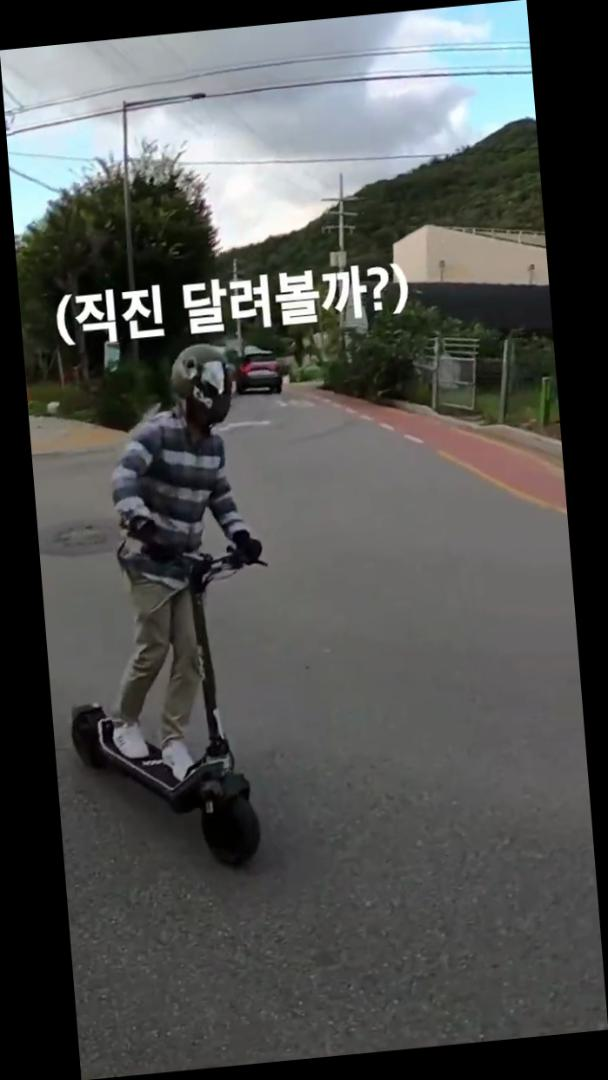helmet: (38, 335, 295, 888)
